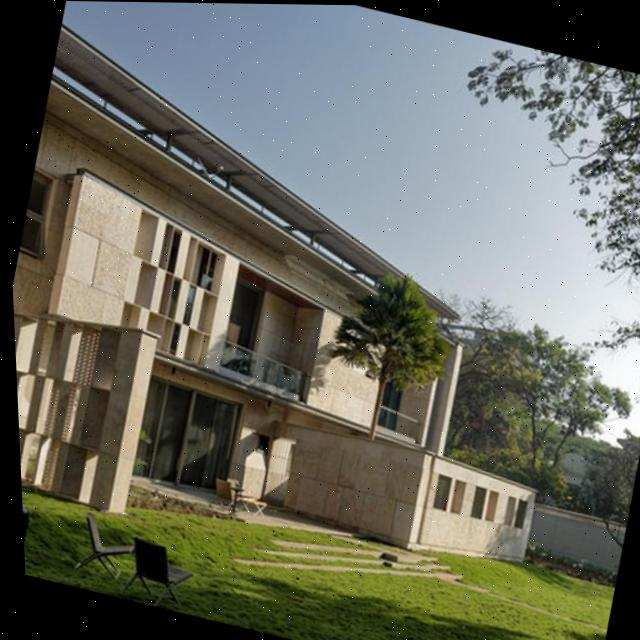building: (1, 21, 621, 613)
